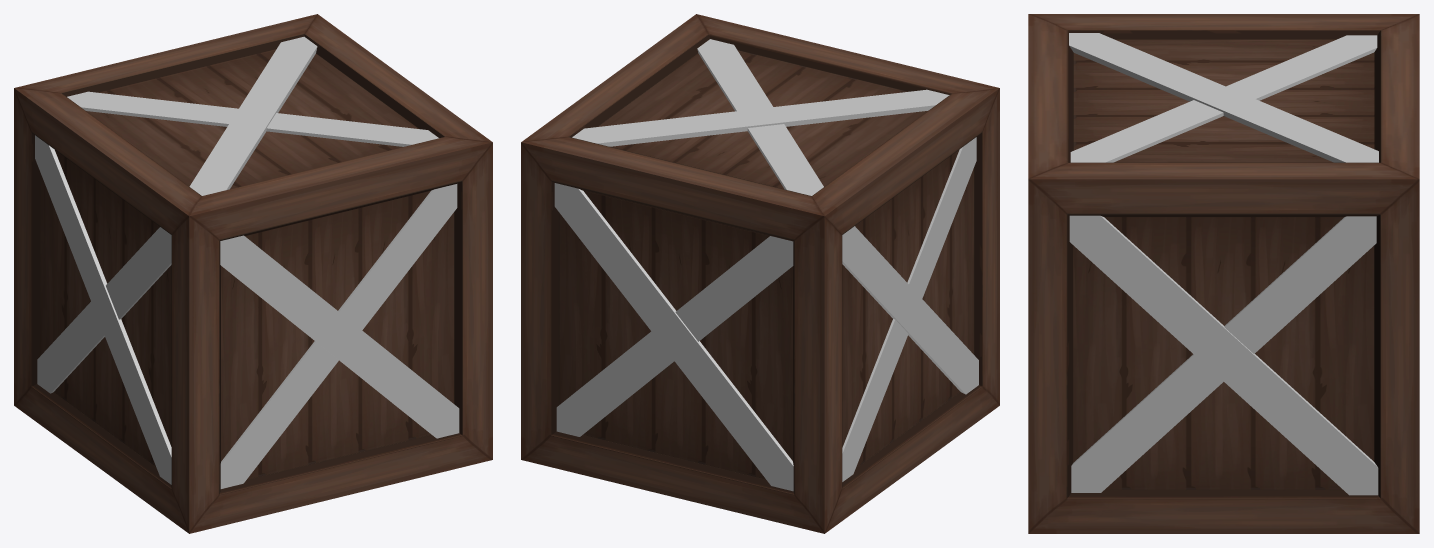
File: 3dmodel_woodencrate-var2_v2_sc.fbx
3 views of the same model, side by side, from view 1: azimuth 30°, elevation 25°; view 2: azimuth 150°, elevation 25°; view 3: azimuth 270°, elevation 25° (orthographic). The views are drawn at different scales.
Visible parts, largest first — view 1: wooden_crate, extra_plank (×3), extra_plank1 (×3); view 2: wooden_crate, extra_plank (×3), extra_plank1 (×3); view 3: wooden_crate, extra_plank (×2), extra_plank1 (×2).
Boxes of the visible parts, x1,y1,x2,y2 form: wooden_crate: (14,14,492,533); extra_plank (×3): (35,36,459,484); extra_plank1 (×3): (37,91,457,488); wooden_crate: (521,14,999,533); extra_plank (×3): (554,89,978,491); extra_plank1 (×3): (556,39,976,481); wooden_crate: (1028,14,1419,533); extra_plank (×2): (1069,33,1378,495); extra_plank1 (×2): (1070,35,1377,492).
Size of the model in its own units: 1.6 by 1.6 by 1.6.
